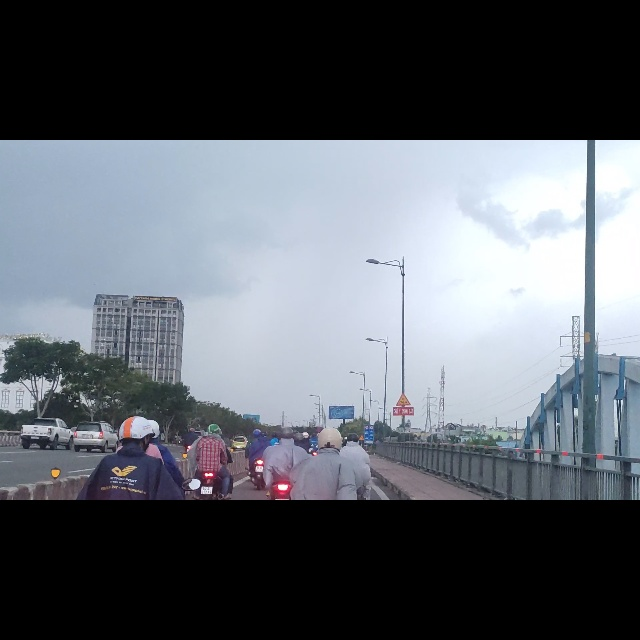bien_chi_dan: (395, 448, 412, 473), (358, 522, 365, 534)
